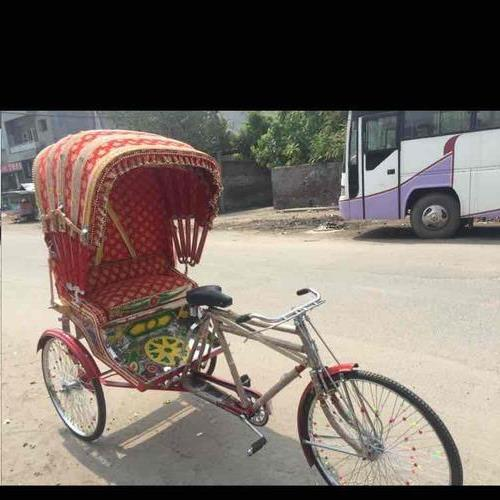Rickshaw: (25, 120, 472, 478)
